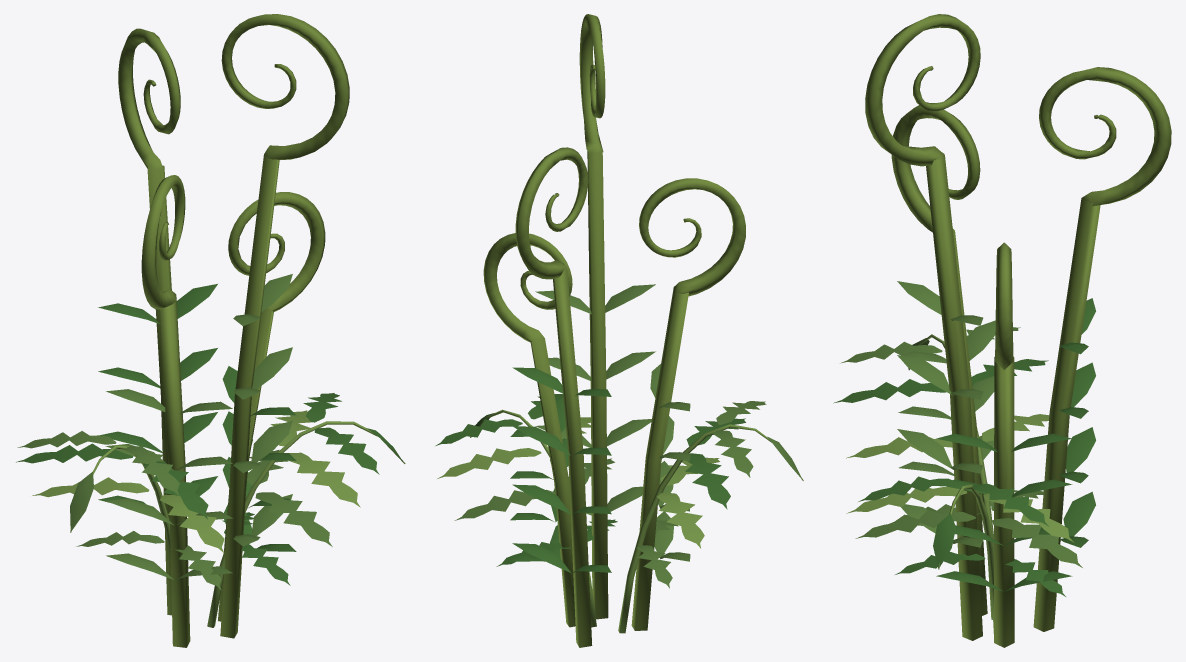
File: meadow_fern_fiddleheads.glb
The picture shows the model from 3 angles, left to right: view 1: azimuth 30°, elevation 25°; view 2: azimuth 150°, elevation 25°; view 3: azimuth 270°, elevation 25°; orthographic projection. The views are drawn at different scales.
Parts seen in each view (by area): view 1: body; view 2: body; view 3: body.
Boxes of the visible parts, x1,y1,x2,y2 form: body: (16, 14, 405, 647); body: (435, 14, 803, 647); body: (833, 14, 1171, 647).
Size of the model in its own units: 0.2659 by 0.4572 by 0.2214.
